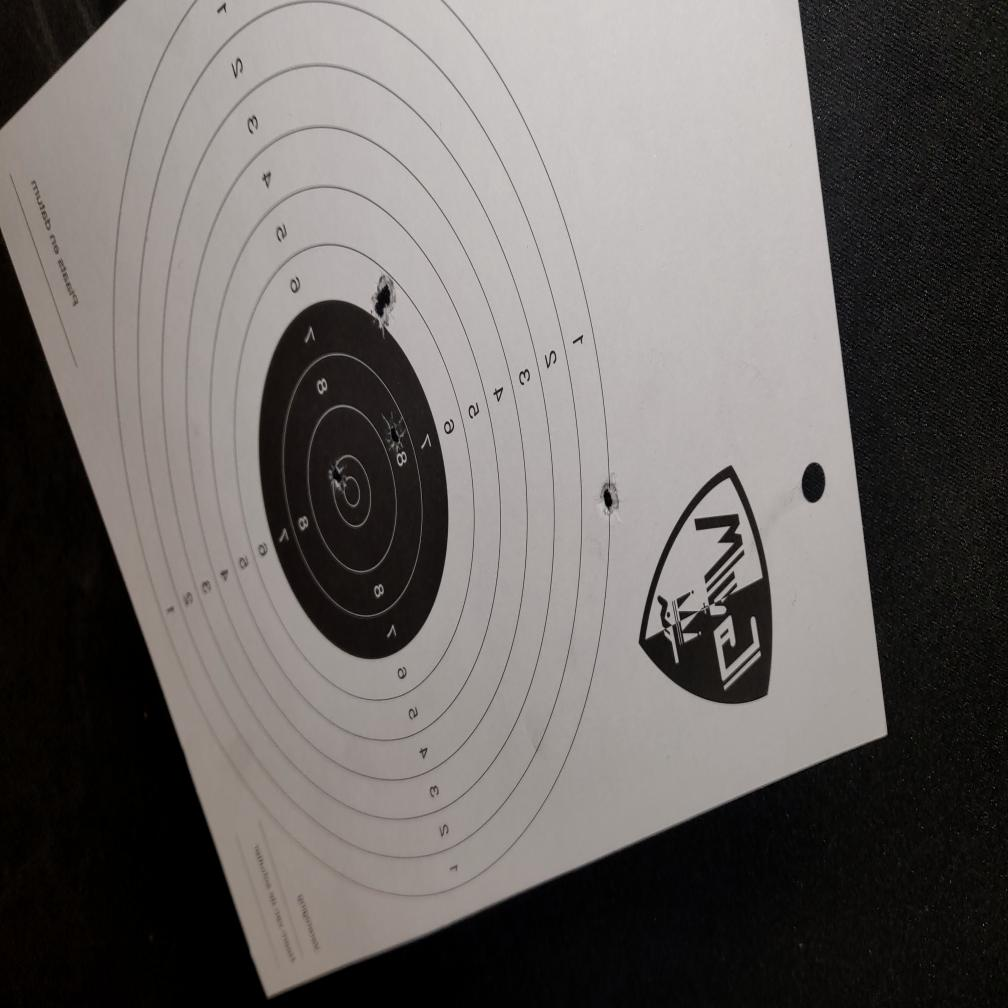1: (601, 479, 620, 520)
10: (328, 460, 346, 494)
6: (378, 272, 395, 307)
7: (370, 296, 390, 338)
8: (384, 415, 404, 452)
Target: (112, 0, 611, 902)
black_contour: (258, 298, 450, 657)
